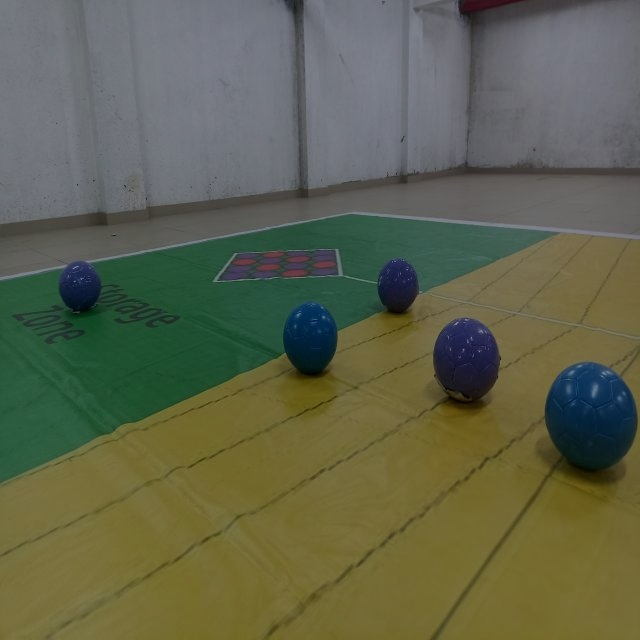blue_ball: (540, 356, 638, 477), (284, 299, 340, 375)
purple_ball: (432, 314, 502, 409), (376, 255, 422, 314), (58, 260, 102, 319)
